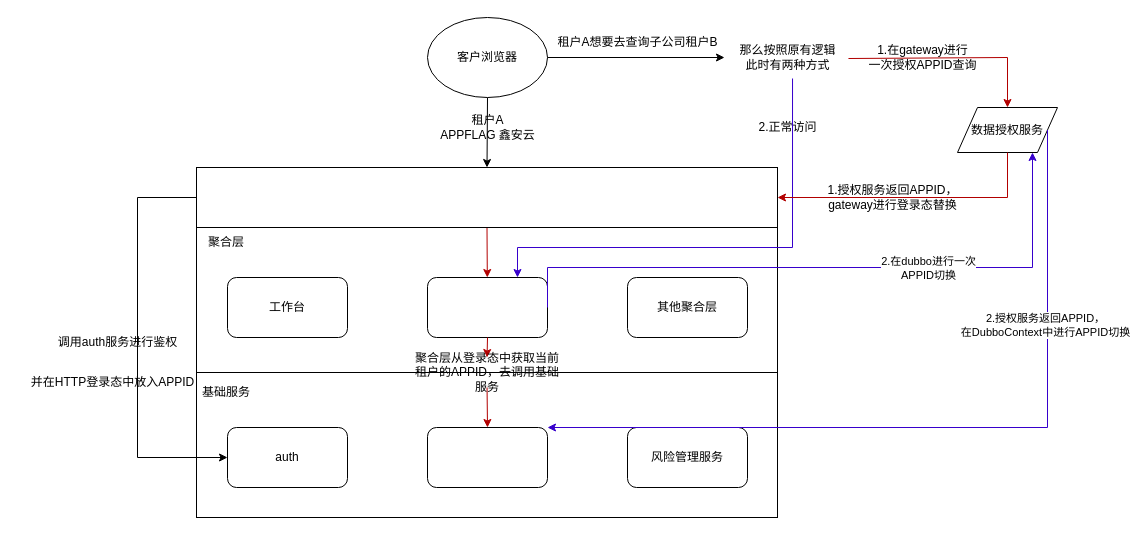
Some shapes in this 1147 by 535 pixel diagram are drawn without their labels. The centre of each missing label's shape, as x and y in pixels:
"platform-gateway" belongs at pixel 487 197.
"组织" belongs at pixel 487 457.
"鑫安云" belongs at pixel 487 307.
